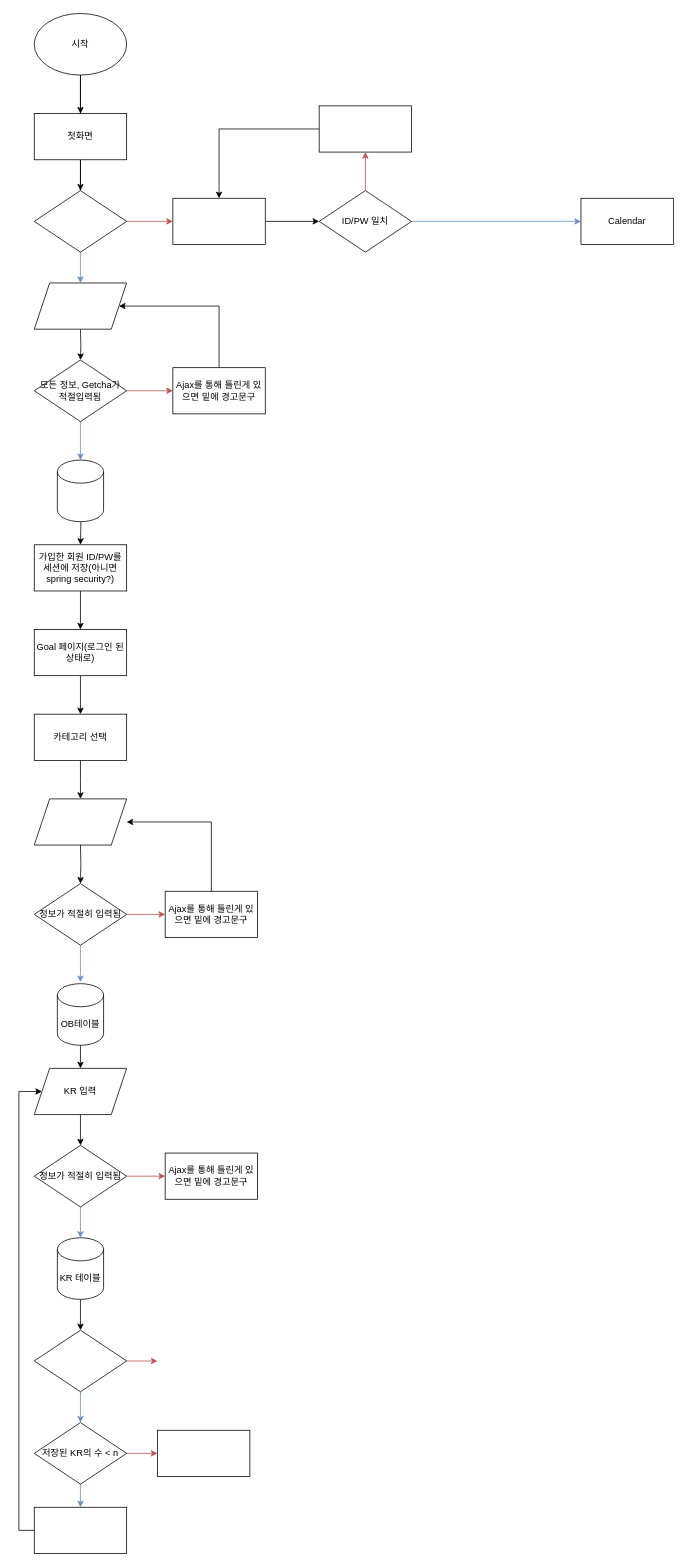
This 687x1567 diagram has some shape labels left out. Each missing label, with the box of its shape:
KR input 생성: (33, 1507, 127, 1553)
Member 테이블: (57, 459, 104, 522)
경고: (318, 105, 412, 152)
경고 한 OB당 저장 가능한 KR의 수는 n개입니다: (157, 1430, 250, 1476)
로그인: (172, 198, 265, 244)
사용자 정보 입력: (33, 282, 127, 329)
사용자가 + 버튼 클릭: (33, 1329, 127, 1392)
선택된 카테고리를 캐시? 등에 저장 뒤 OB 입력 페이지에서 사용자가 OB를 입력: (33, 798, 127, 845)
회원가입: (33, 190, 127, 252)
